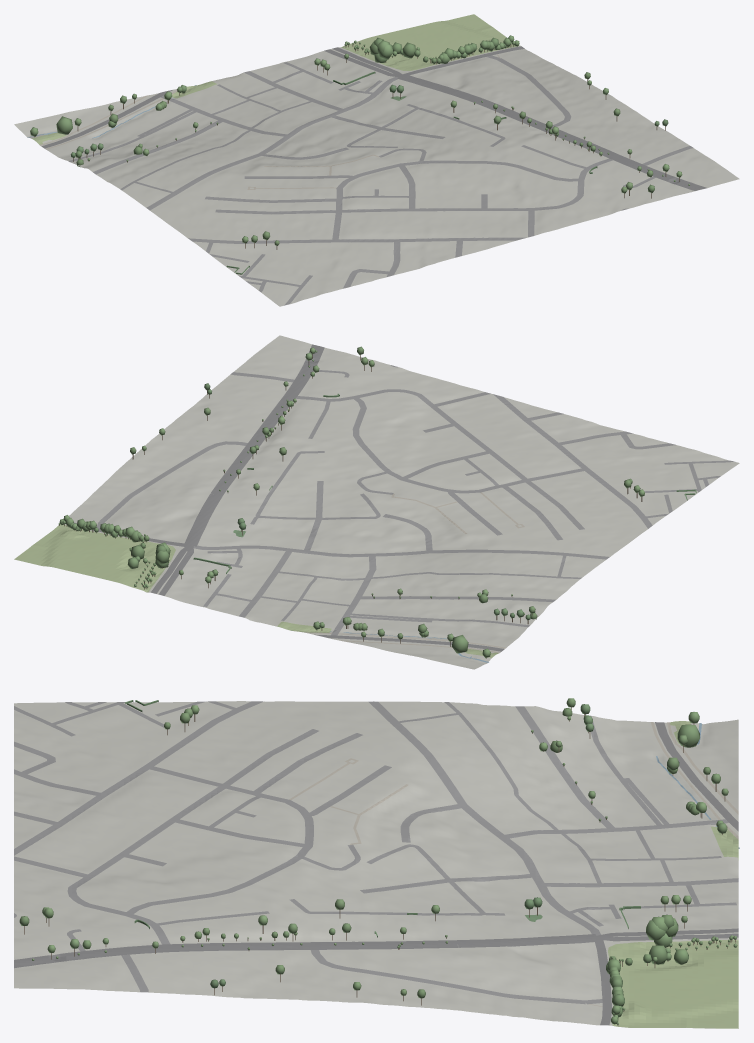
3 renders of one model, top to bottom at view 1: azimuth 30°, elevation 25°; view 2: azimuth 150°, elevation 25°; view 3: azimuth 270°, elevation 25°, orthographic. The views are drawn at different scales.
Visible parts, largest first — view 1: t12_01_terrain, t12_01_roads_minor, t12_01_trees_mapped, way/145563565@t12_01, t12_01_roads_major, t12_01_roads_path; view 2: t12_01_terrain, t12_01_roads_minor, way/145563565@t12_01, t12_01_trees_mapped, t12_01_roads_major, t12_01_roads_path; view 3: t12_01_terrain, t12_01_roads_minor, way/145563565@t12_01, t12_01_roads_major, t12_01_trees_mapped, t12_01_roads_path.
Part boxes in pixels (x1,y1,x2,y2): t12_01_terrain: (14,46,739,306); t12_01_roads_minor: (68,55,693,305); t12_01_trees_mapped: (30,35,689,249); way/145563565@t12_01: (341,14,520,70); t12_01_roads_major: (41,46,706,190); t12_01_roads_path: (39,54,499,189); t12_01_terrain: (65,335,739,669); t12_01_roads_minor: (97,365,734,635); way/145563565@t12_01: (14,524,175,592); t12_01_trees_mapped: (58,346,644,658); t12_01_roads_major: (73,344,504,651); t12_01_roads_path: (96,492,524,652); t12_01_terrain: (14,701,738,1028); t12_01_roads_minor: (14,701,738,1004); way/145563565@t12_01: (608,939,738,1028); t12_01_roads_major: (14,722,738,1025); t12_01_trees_mapped: (19,698,737,1025); t12_01_roads_path: (289,722,738,1006).
Size of the model in its own units: 503 by 46.52 by 501.
